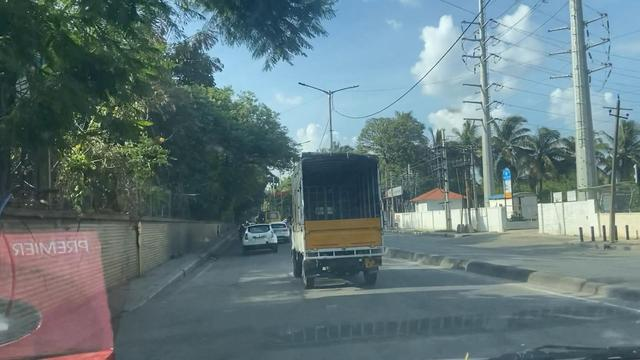HMV: (289, 153, 382, 282)
LMV: (238, 226, 276, 253)
RoadDamages: (282, 302, 341, 335)
